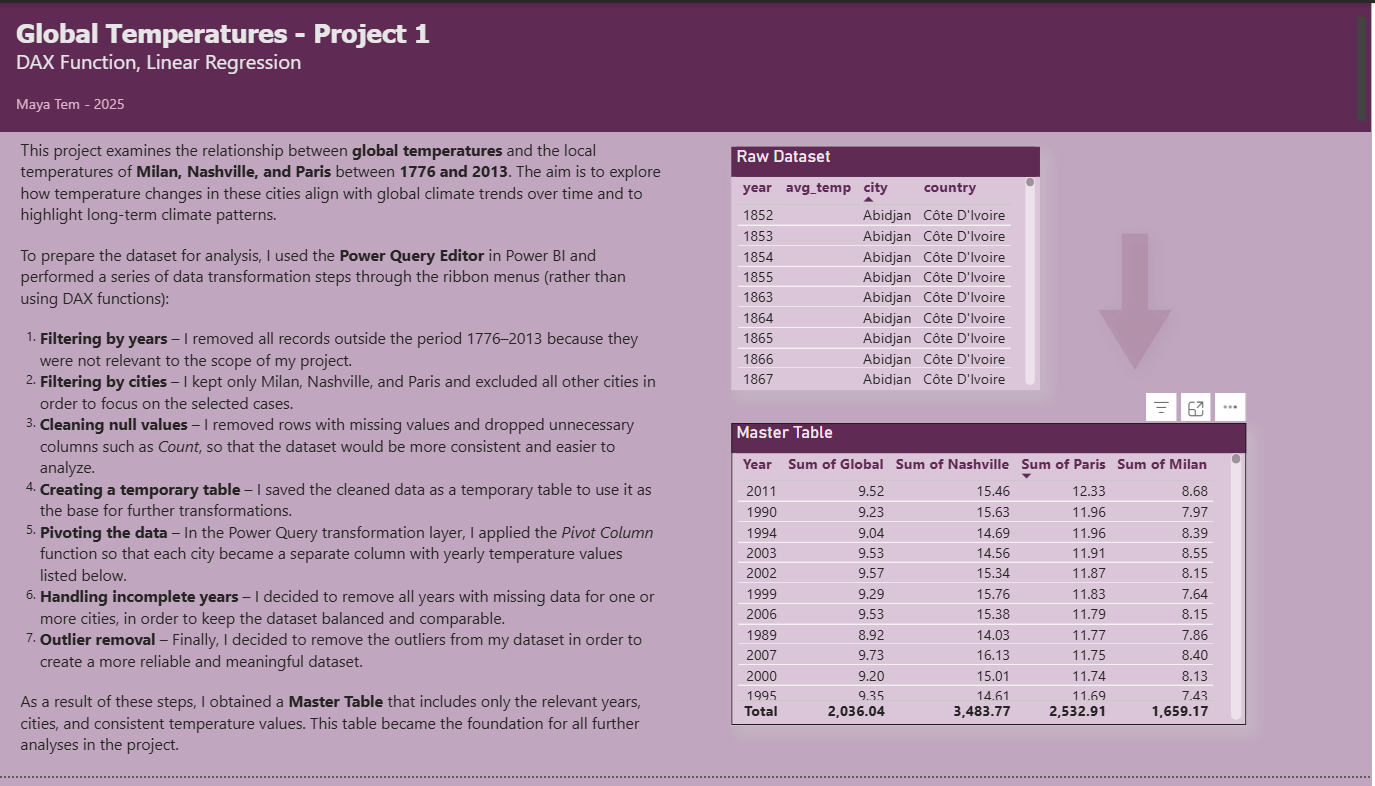

This screenshot's page, from the dashboard's own definition file:
{"tool":"powerbi","page":{"name":"Answer 1- 4","canvas":[1280,720],"ordinal":0},"visuals":[{"type":"textbox","box":[0,0,1280.2,119.8],"z":0},{"type":"textbox","box":[18.6,119.8,607,587.2],"z":1000},{"type":"tableEx","title":"Raw Dataset","fields":{"Values":["temp.year","temp.avg_temp","temp.city","temp.country"]},"box":[684.9,133.7,287.2,226.7],"z":2000},{"type":"tableEx","title":"Master Table","fields":{"Values":["MasterTable.Year","MasterTable.Global","MasterTable.Nashville","MasterTable.Paris","MasterTable.Milan"]},"box":[684.9,390.7,479.1,281.4],"z":3000},{"type":"shape","box":[1007,195.3,107,165.1],"z":4000}]}

Visuals, with their boxes in screenshot pixels (x1, y1, x2, y2), scaled from the page's 1280x720 canvas onto the 1375x786 screenshot:
textbox: [left=0, top=0, right=1374, bottom=131]
textbox: [left=20, top=131, right=672, bottom=772]
"Raw Dataset" tableEx: [left=736, top=146, right=1044, bottom=393]
"Master Table" tableEx: [left=736, top=427, right=1250, bottom=734]
shape: [left=1082, top=213, right=1197, bottom=393]
